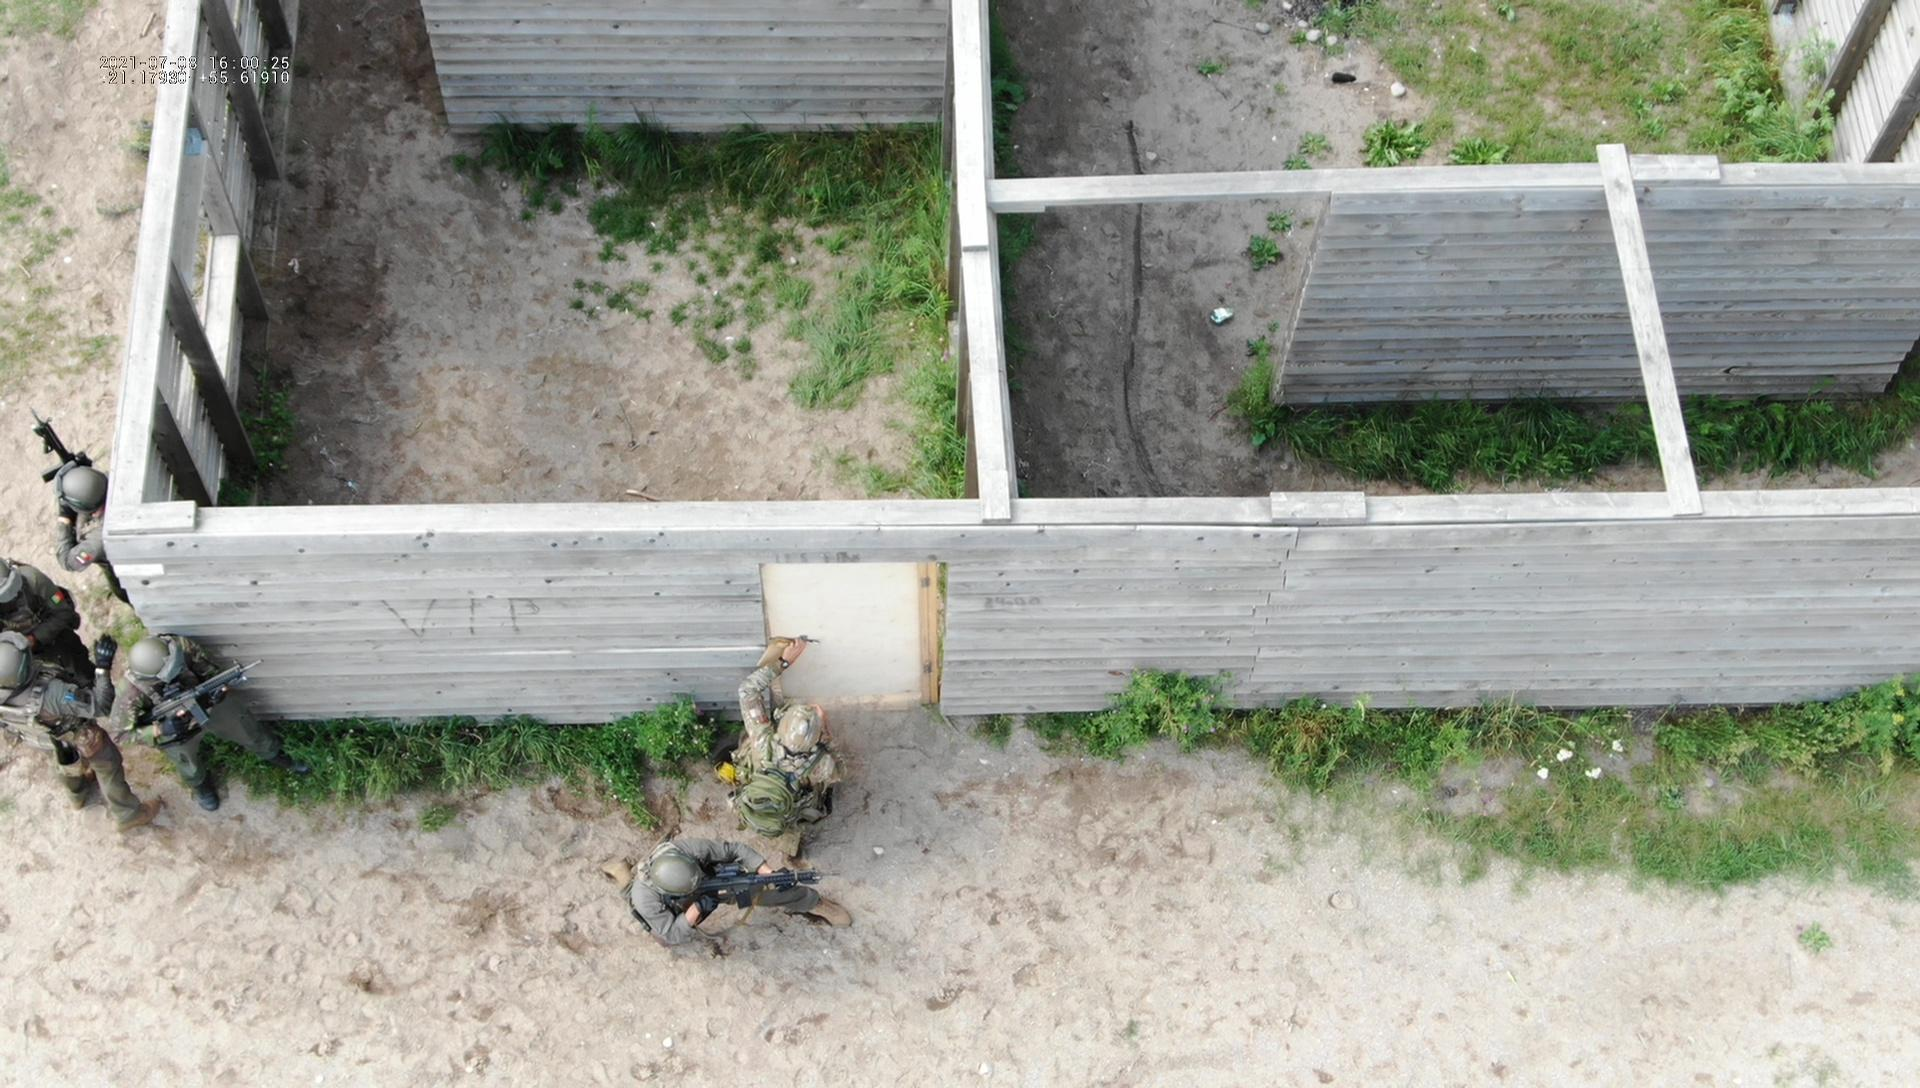Soldier: (634, 799, 878, 1000), (135, 605, 294, 866), (713, 634, 887, 864), (0, 625, 148, 822), (13, 429, 123, 557), (0, 549, 91, 669)
